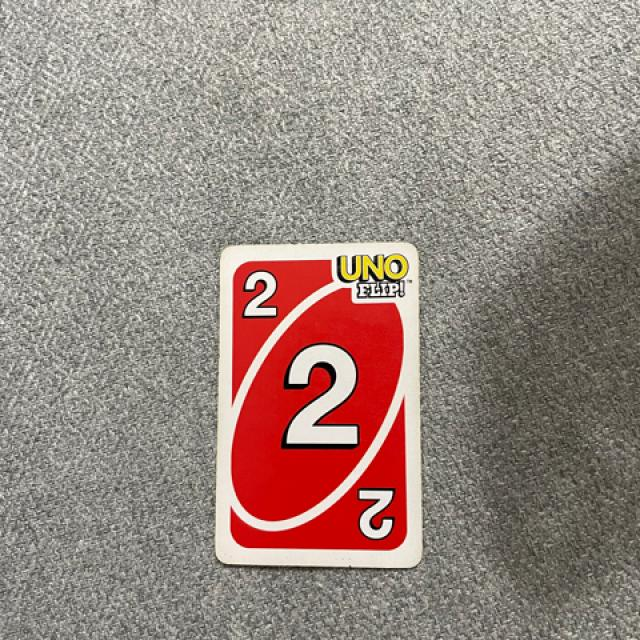lred-2: (230, 256, 298, 331)
